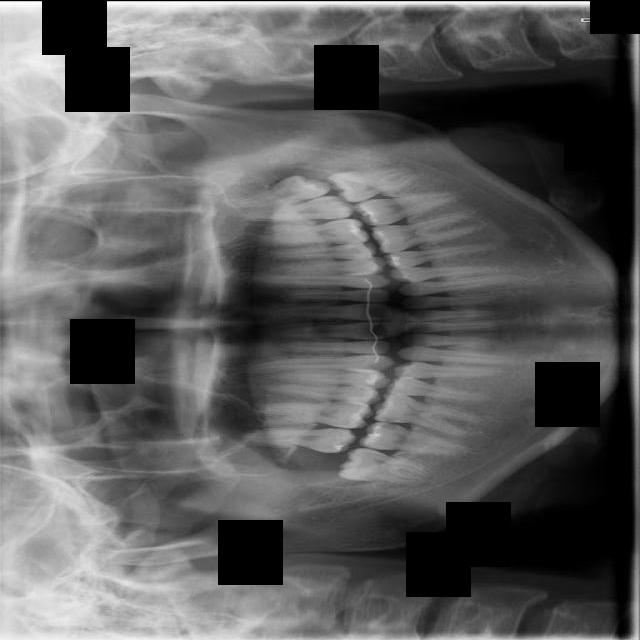3M ESPE Implant: (238, 427, 358, 453)
52: (345, 366, 391, 389), (384, 249, 429, 268)
73: (560, 43, 580, 44)
BioHorizons Implant: (237, 193, 357, 223)
BioLife Implant: (221, 169, 335, 212)
Biomet 3i Implant: (325, 165, 420, 204)
Blue Sky Bio Implant: (352, 188, 461, 229)
Caries: (238, 399, 375, 428)
Implant: (359, 419, 468, 457)
Keystone Dental Implant: (337, 445, 433, 484)
